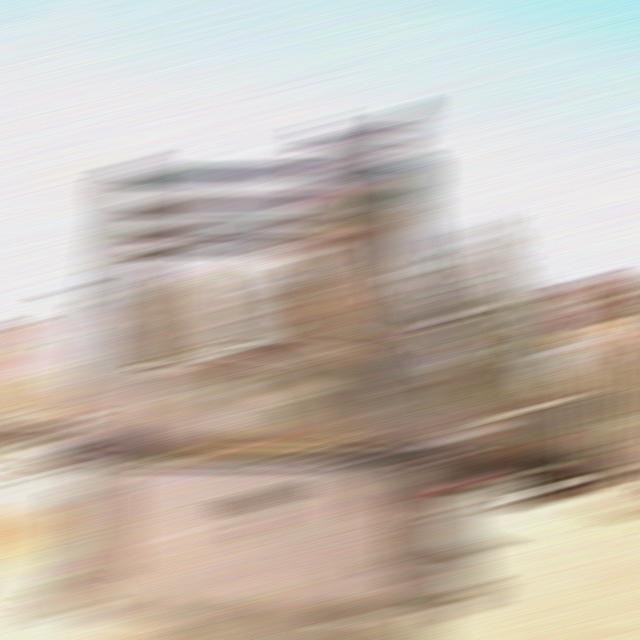stop_sign: (555, 279, 615, 325)
